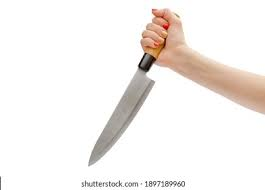weapon-unusual: (84, 6, 180, 171)
